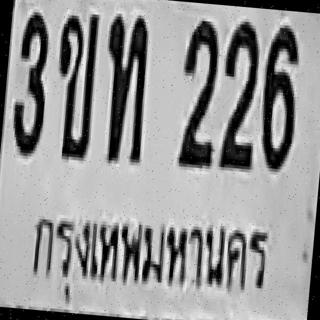A02: (49, 10, 99, 160)
A23: (98, 10, 152, 163)
N02: (215, 17, 262, 169), (174, 18, 221, 167)
N03: (8, 8, 52, 154)
N06: (256, 22, 302, 171)
P04: (22, 200, 276, 319)
